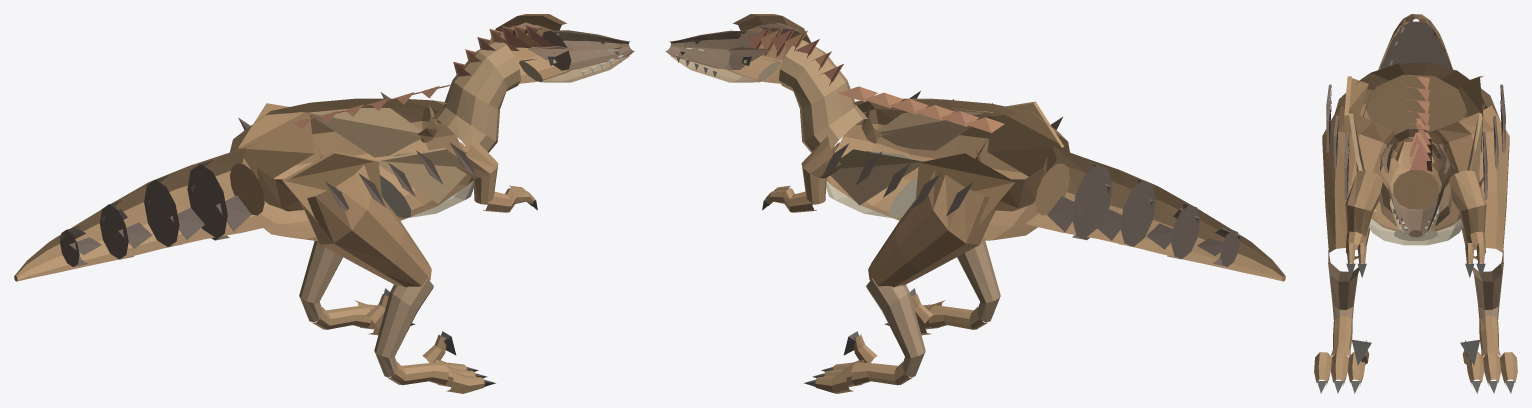
File: varrisco-v01-anatomy-blockout.glb
The picture shows the model from 3 angles, left to right: view 1: azimuth 30°, elevation 25°; view 2: azimuth 150°, elevation 25°; view 3: azimuth 270°, elevation 25°; orthographic projection. The views are drawn at different scales.
Parts seen in each view (by area): view 1: varrisco-v01-anatomy-blockout; view 2: varrisco-v01-anatomy-blockout; view 3: varrisco-v01-anatomy-blockout.
Part boxes in pixels (x1,y1,x2,y2): varrisco-v01-anatomy-blockout: (14,14,634,393); varrisco-v01-anatomy-blockout: (665,14,1285,393); varrisco-v01-anatomy-blockout: (1314,14,1517,393).
Size of the model in its own units: 3.07 by 1.49 by 0.9088.
